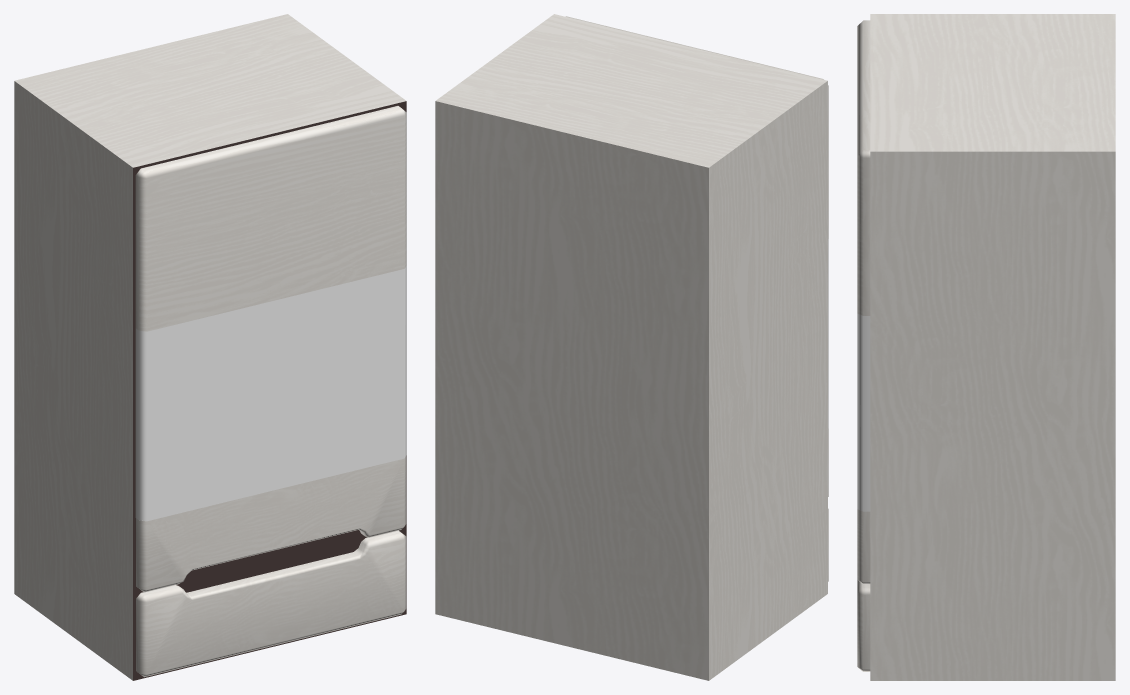
The model's file is wall_cabinet_026.fbx.
The picture shows the model from 3 angles, left to right: view 1: azimuth 30°, elevation 25°; view 2: azimuth 150°, elevation 25°; view 3: azimuth 270°, elevation 25°; orthographic projection. The views are drawn at different scales.
Visible parts, largest first — view 1: wall_cabinet_026; view 2: wall_cabinet_026; view 3: wall_cabinet_026.
Boxes of the visible parts, x1=… form: wall_cabinet_026: x1=14, y1=14, x2=406, y2=680; wall_cabinet_026: x1=435, y1=14, x2=828, y2=680; wall_cabinet_026: x1=857, y1=14, x2=1115, y2=680.
Size of the model in its own units: 84.33 by 66.86 by 151.
